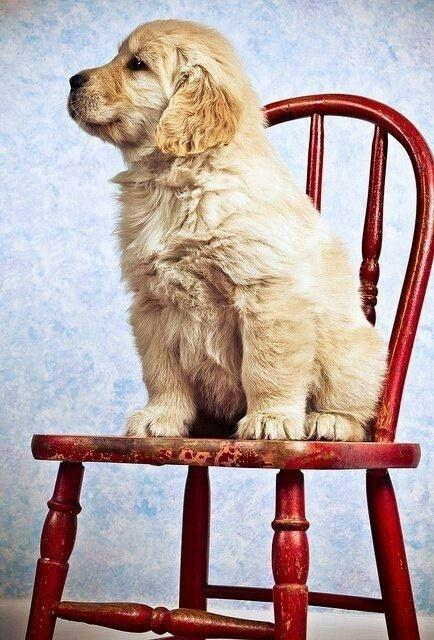puppy-dog: (66, 18, 389, 446)
